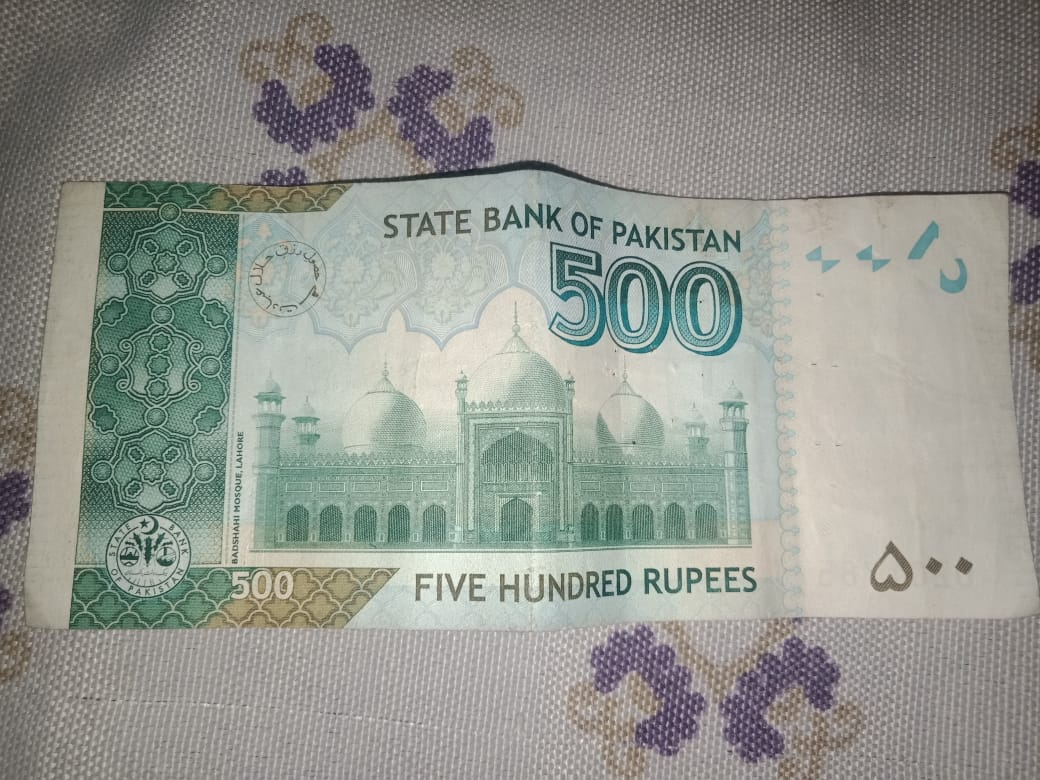500 rupee: (35, 156, 1034, 622)
